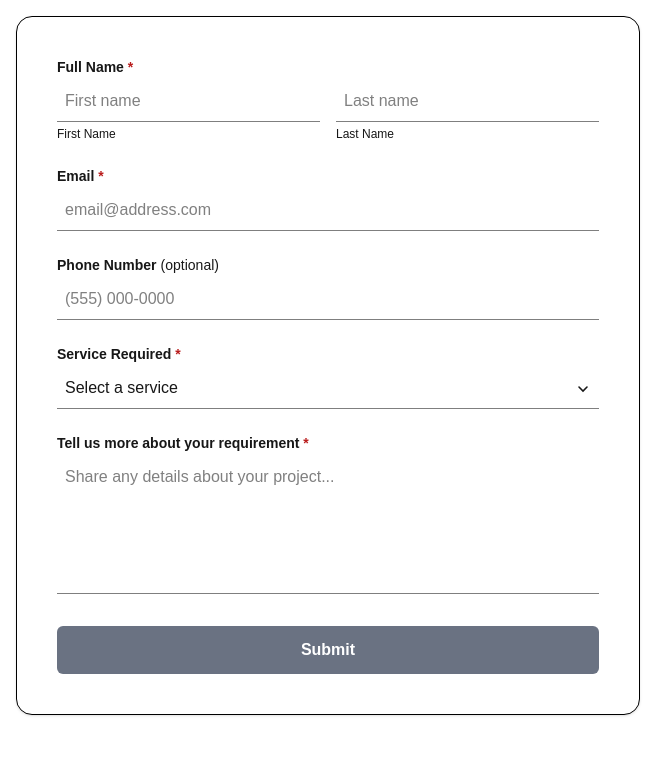
Scenario: ContactForm › shows success message and clears the form after a successful submission
Type "James" into the field with placeholder "First Name" at (188, 102), box 57,81 -> 320,122
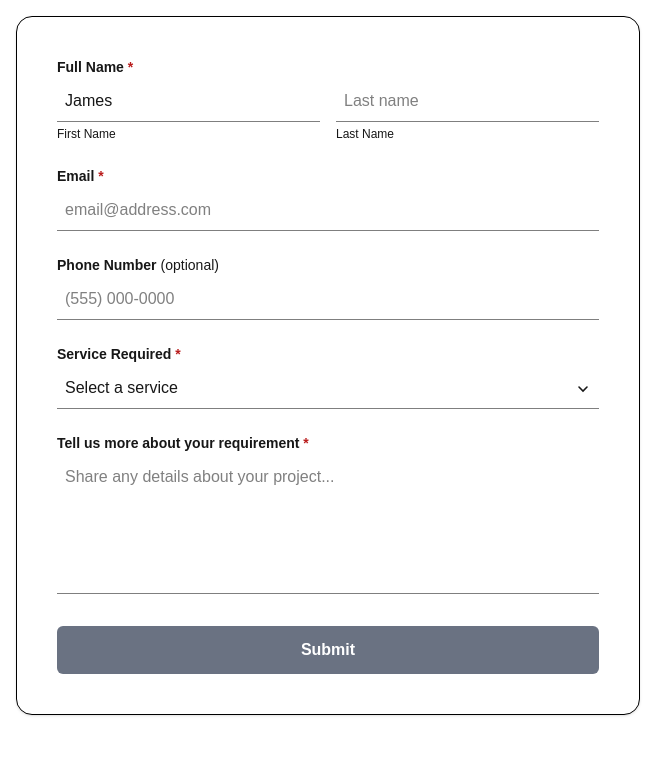
Type "Thomas" into the field with placeholder "Last Name" at (468, 102), box 336,81 -> 599,122
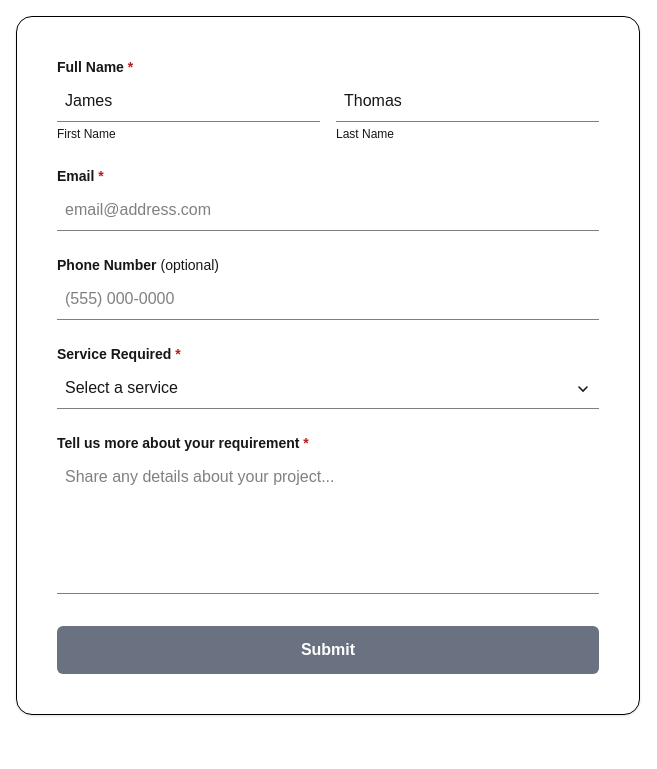
Type "james@example.com" into the field with placeholder "email@address.com" at (328, 210), box 57,190 -> 599,231
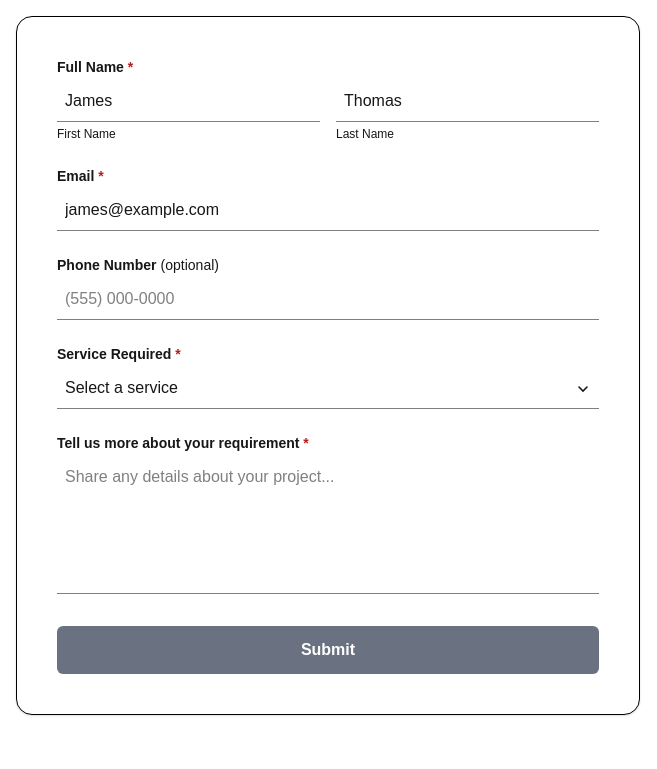
Select "Documentary Services" in the dropdown at (328, 388), box 57,368 -> 599,409
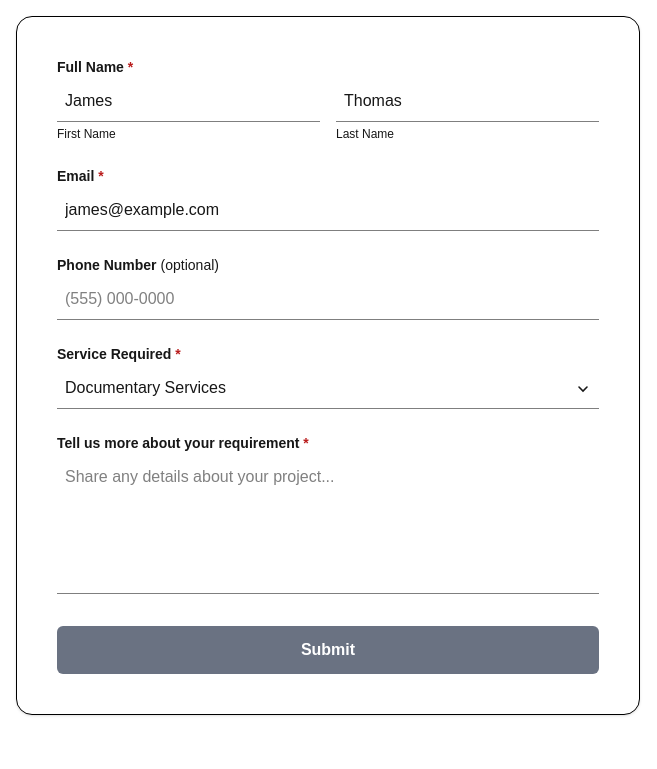
Type "I would like to book a documentary." into the text box with placeholder "Share any details about your project..." at (328, 526), box 57,457 -> 599,594
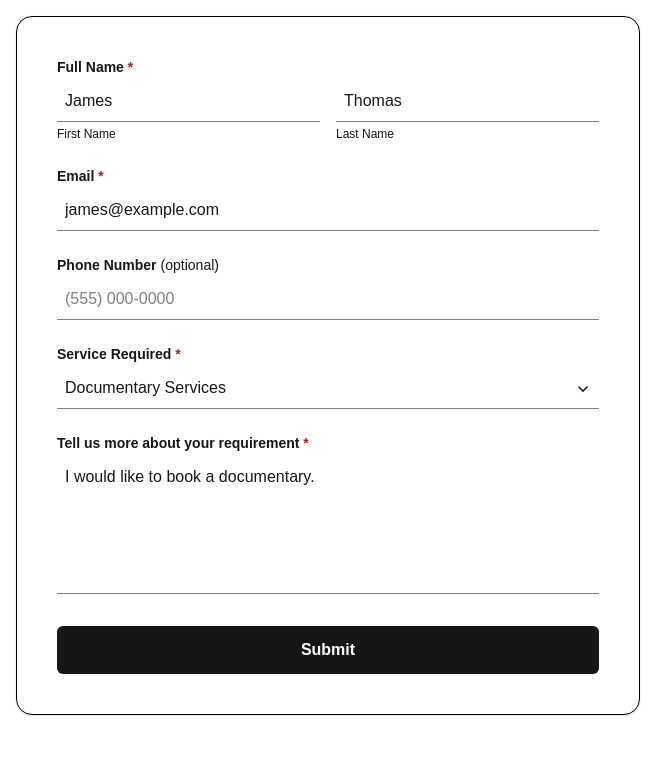
Click the button "Submit" at (328, 650), box 57,626 -> 599,674
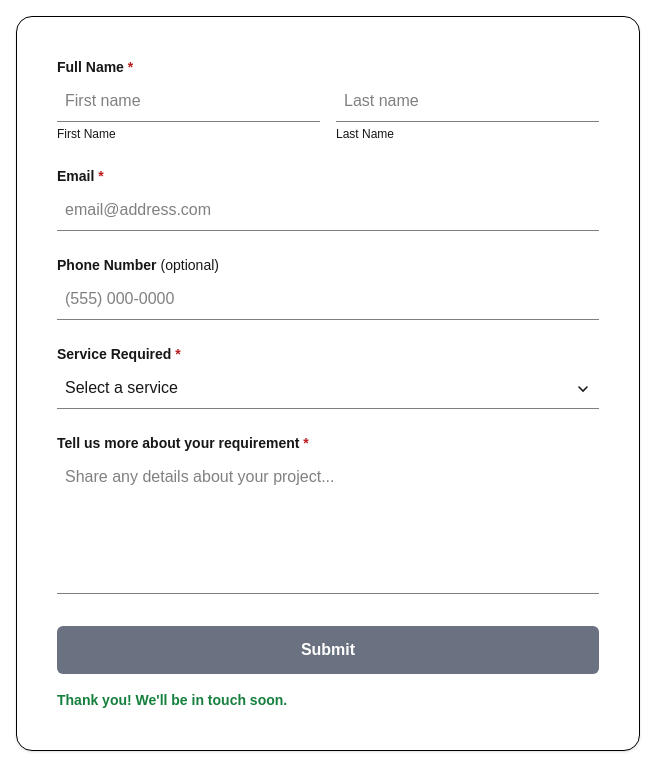
Now the text "Thank you! We'll be in touch soon." is shown, box 57,692 -> 287,708
Now the field with placeholder "First Name" is empty, box 57,81 -> 320,122
